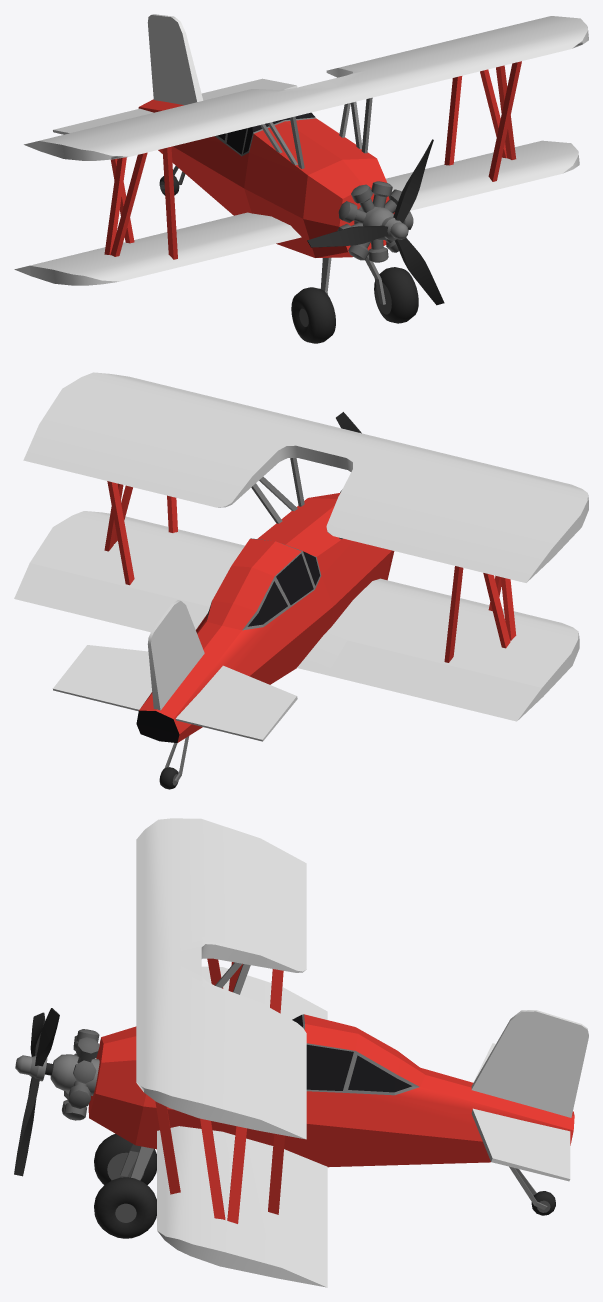
File: Middle_Airplane_02.fbx
3 views of the same model, one above another, from view 1: azimuth 30°, elevation 25°; view 2: azimuth 150°, elevation 25°; view 3: azimuth 270°, elevation 25° (orthographic). The views are drawn at different scales.
Parts seen in each view (by area): view 1: Middle_Airplane_02, Middle_Airplane_02_Prop, Middle_Airplane_02_Aileron_RR; view 2: Middle_Airplane_02, Middle_Airplane_02_Aileron_FR, Middle_Airplane_02_Aileron_FL, Middle_Airplane_02_Aileron_RR, Middle_Airplane_02_Aileron_RL; view 3: Middle_Airplane_02, Middle_Airplane_02_Aileron_FL, Middle_Airplane_02_Prop, Middle_Airplane_02_Aileron_RL, Middle_Airplane_02_Aileron_FR.
Part boxes in pixels (<box>): Middle_Airplane_02: <box>24,14,588,343</box>; Middle_Airplane_02_Prop: <box>307,139,444,305</box>; Middle_Airplane_02_Aileron_RR: <box>53,110,144,134</box>; Middle_Airplane_02: <box>23,372,588,789</box>; Middle_Airplane_02_Aileron_FR: <box>327,640,543,721</box>; Middle_Airplane_02_Aileron_FL: <box>14,563,209,632</box>; Middle_Airplane_02_Aileron_RR: <box>181,705,272,741</box>; Middle_Airplane_02_Aileron_RL: <box>53,676,145,709</box>; Middle_Airplane_02: <box>50,818,588,1278</box>; Middle_Airplane_02_Aileron_FL: <box>279,1162,327,1287</box>; Middle_Airplane_02_Prop: <box>14,1008,59,1176</box>; Middle_Airplane_02_Aileron_RL: <box>543,1127,570,1181</box>; Middle_Airplane_02_Aileron_FR: <box>281,987,327,1019</box>.
Bounding box in the file's own units: 1311 × 556 × 1119.
